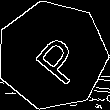P_NW: (21, 25, 84, 86)
